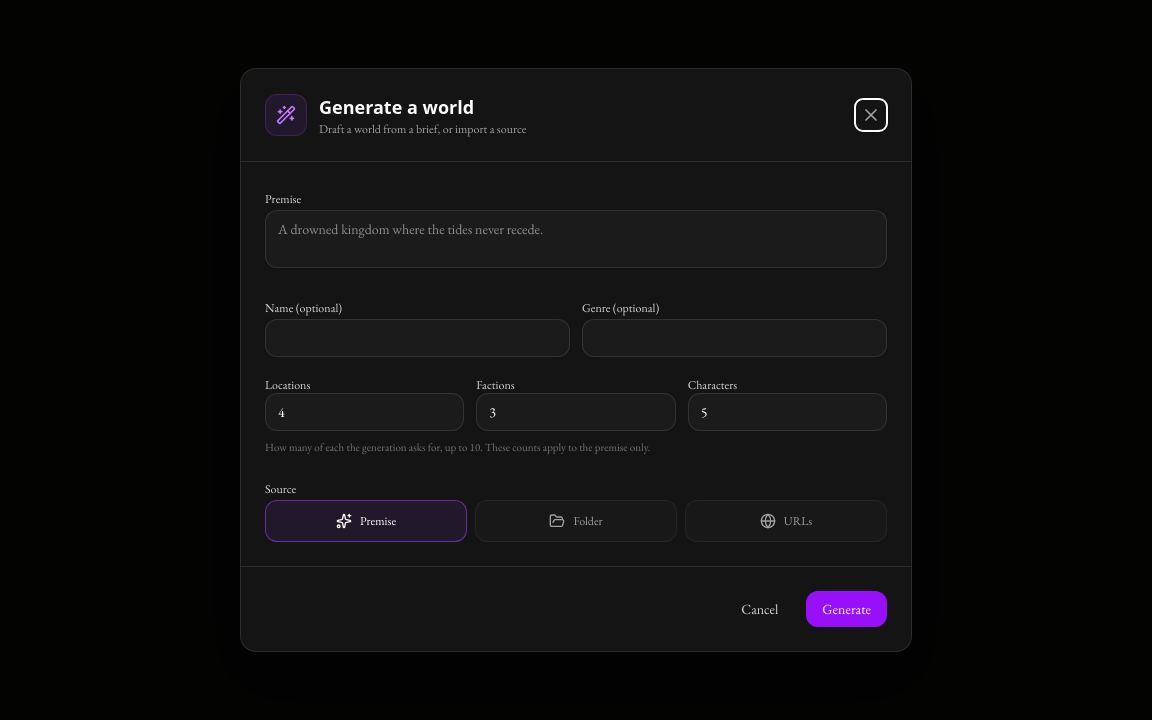
WorldGenerateDialog › collects a brief and shows step progress
In the text box labelled "Premise": (576, 239) left=265, top=210, right=887, bottom=268, type "a drowned kingdom"
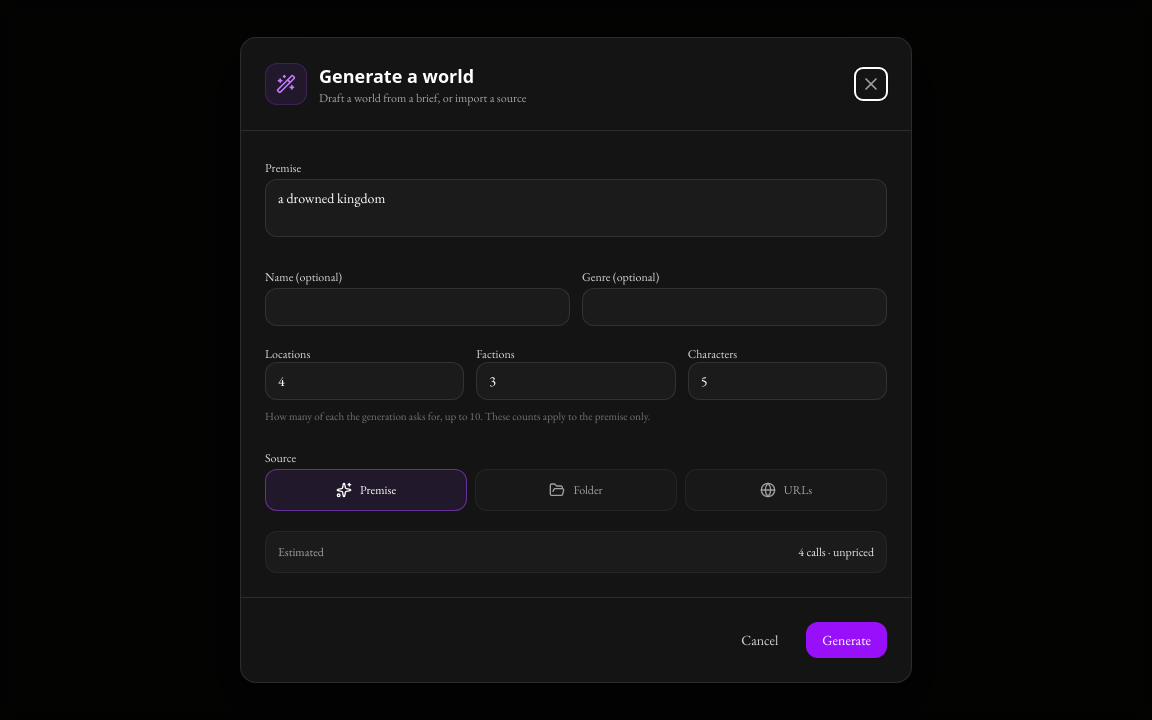
Now the element with test id "generation-estimate" shows "4 calls", box left=265, top=531, right=887, bottom=573
Now the element with test id "generation-estimate" shows "unpriced", box left=833, top=544, right=874, bottom=560
Click the button "Generate": (847, 640) left=806, top=622, right=887, bottom=658
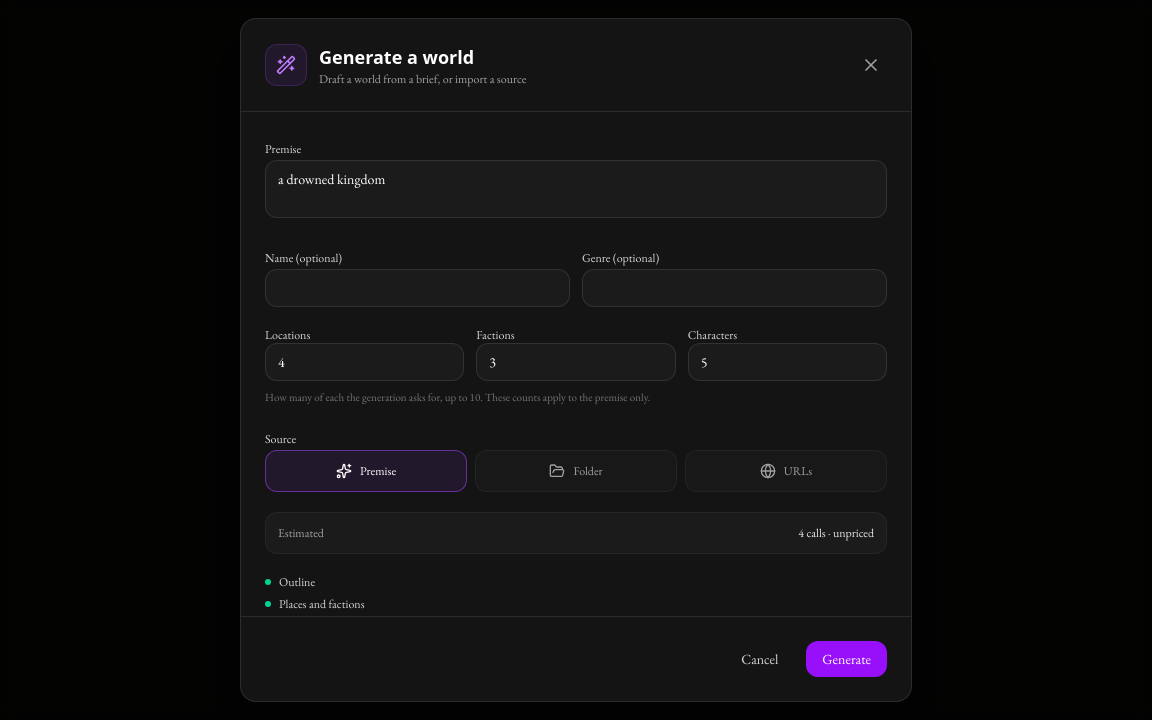
Now the text "Outline" is shown, box left=279, top=574, right=315, bottom=590
Now the text "Places and factions" is shown, box left=279, top=596, right=364, bottom=612
